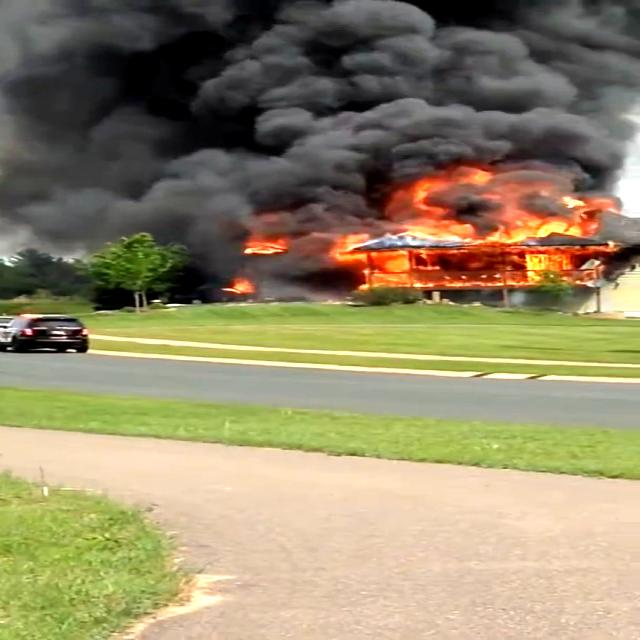helmet: (339, 167, 619, 288)
no_helmet: (0, 0, 640, 178)
